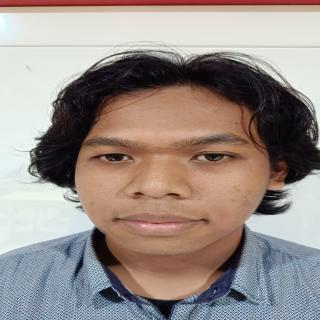Netral: (71, 80, 274, 261)
